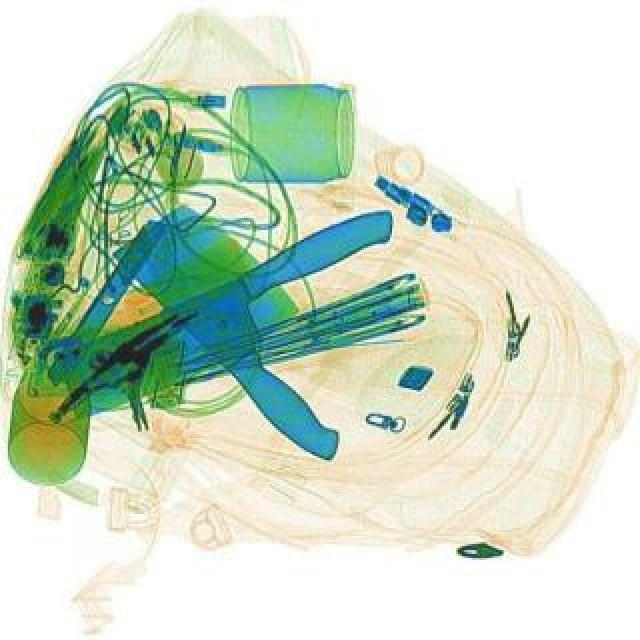knife: (38, 202, 426, 422), (108, 188, 394, 472)
